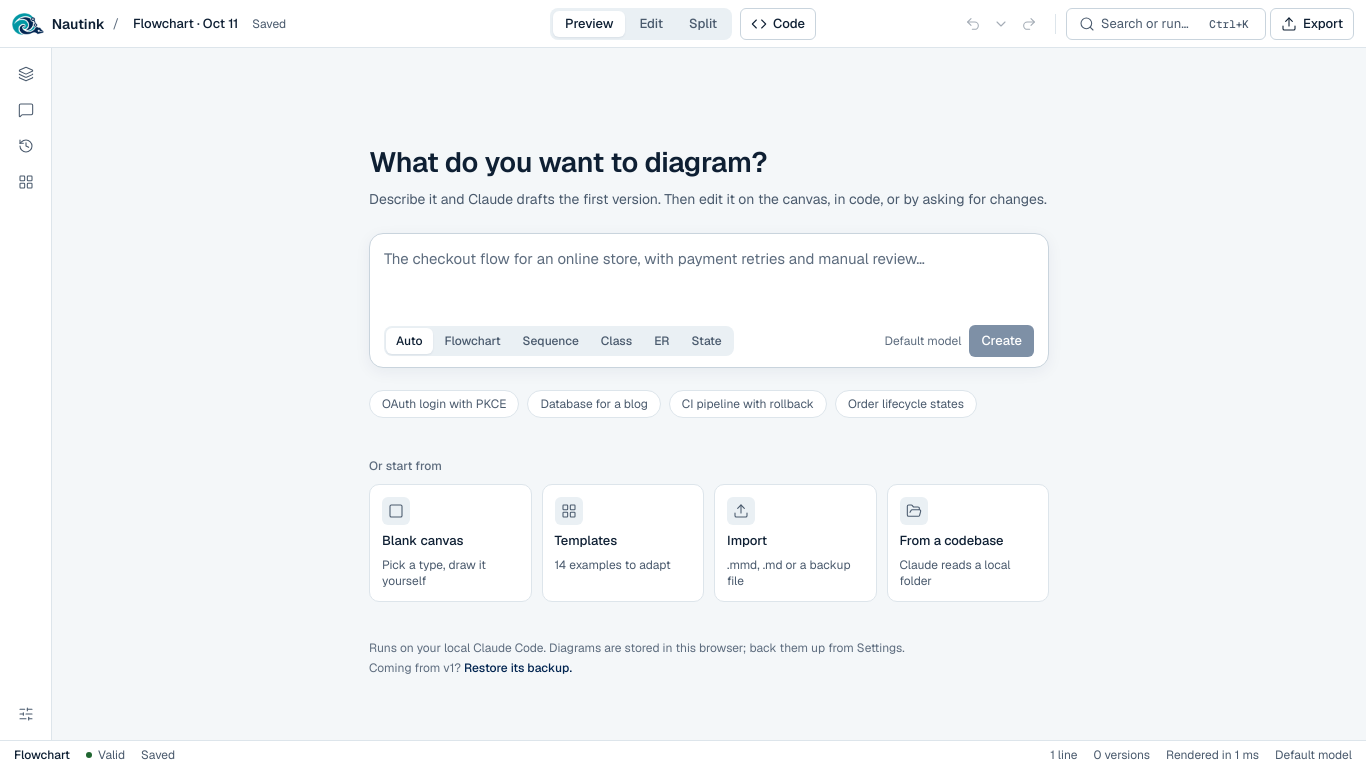
Test case: first run › opens the gallery, and leaves once a template creates a diagram
Expected: the heading "What do you want to diagram?" is shown, [369,144,767,180]
Click the button "Templates 14 examples to adapt" at (623, 543), box [542,484,704,602]
(page scrolled)
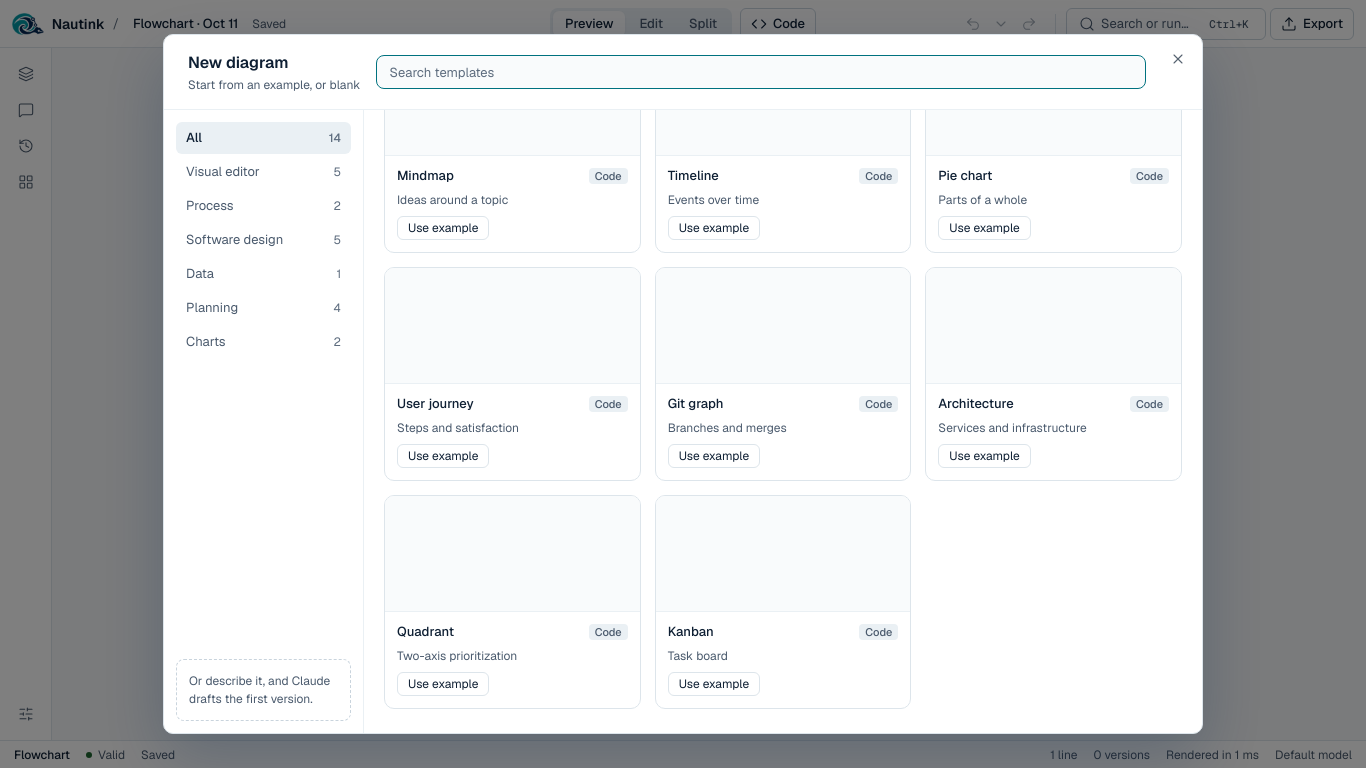
Click the button with aria-label "Use the kanban example" at (714, 684), box [668,672,760,696]
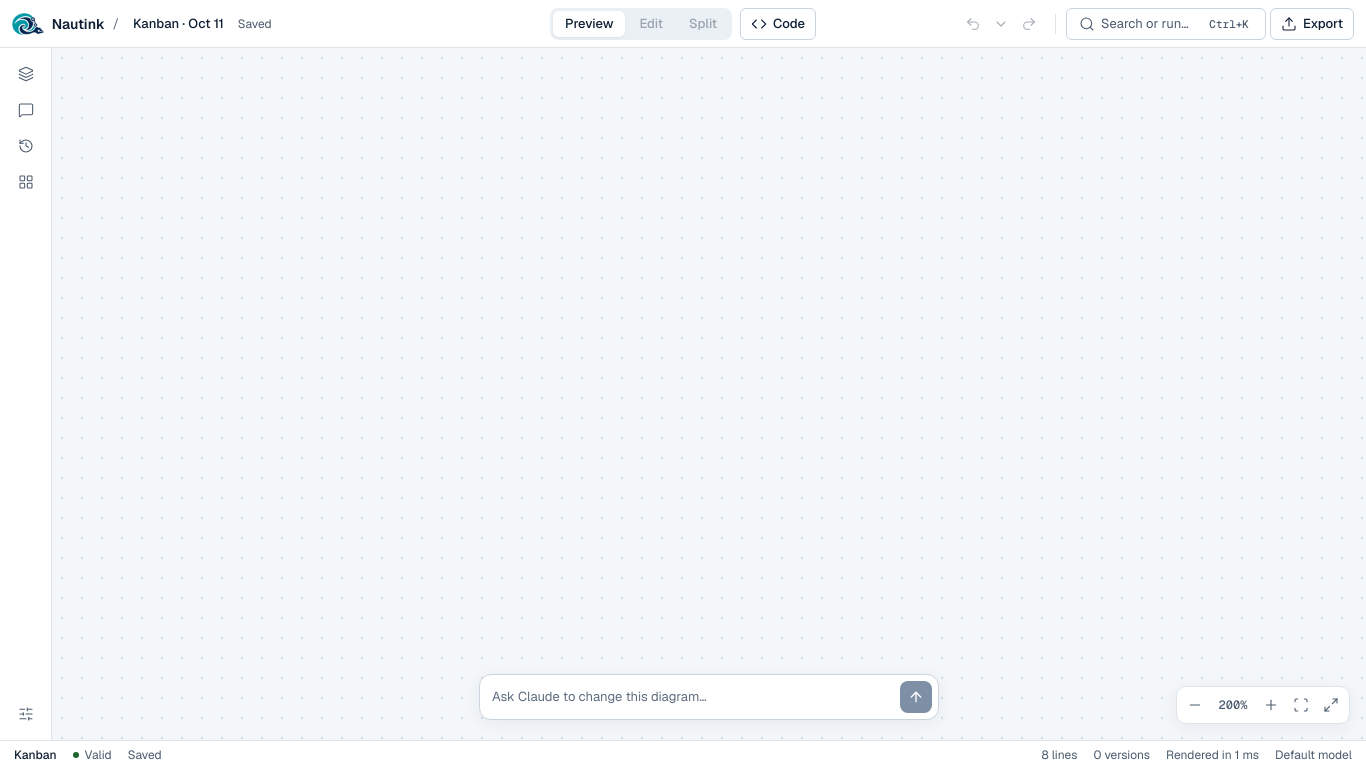
Result: the element named "Canvas" is shown
